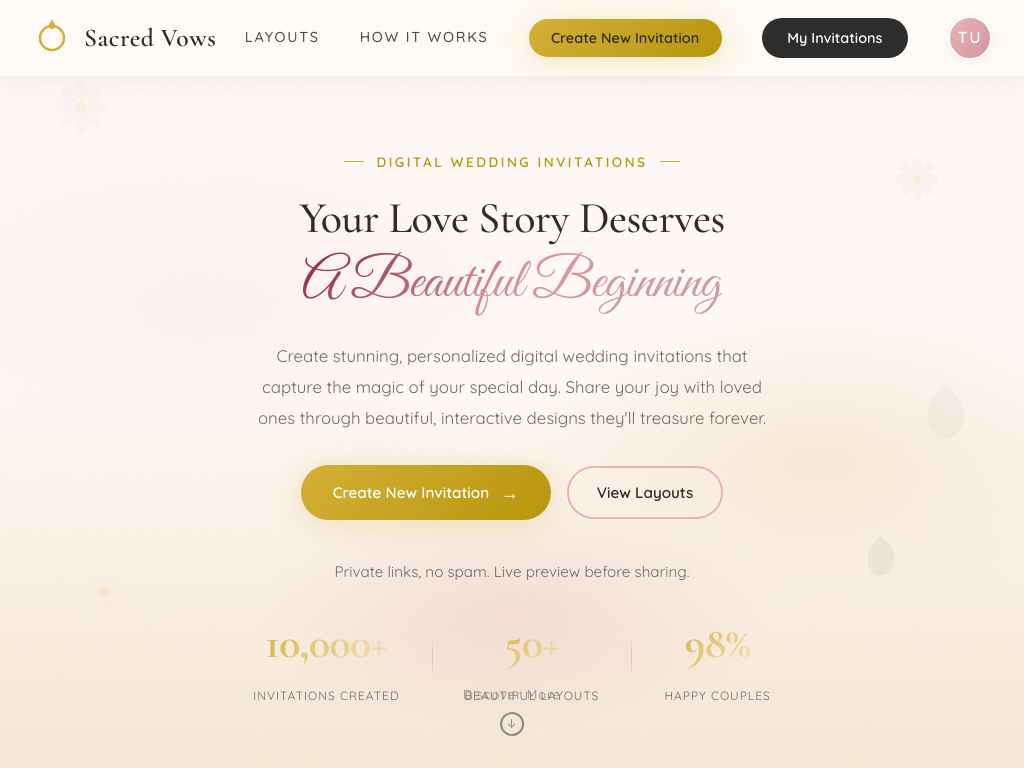
Scenario: HeroSection - Authenticated UI › User Interactions › should open dropdown when avatar is clicked
The image size is (1024, 768).
Click the text "TU".
click(970, 38)  # box 948,16 -> 992,60
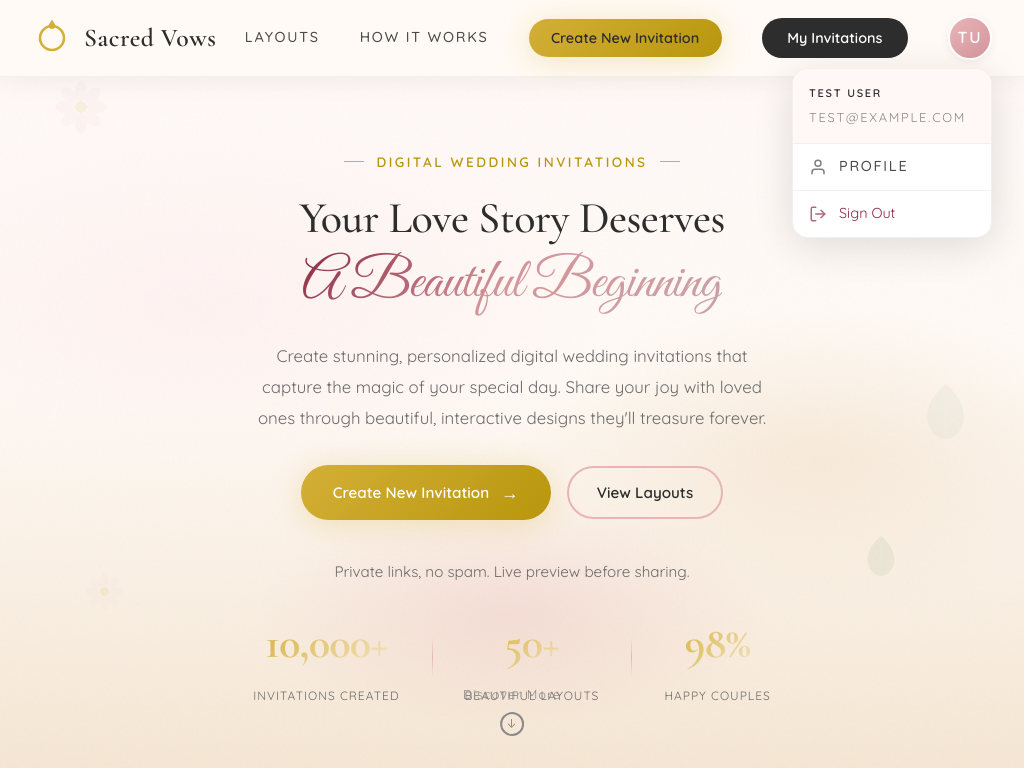
Expected: the text "Test User" is shown, 809,86 -> 882,100
Expected: the text "test@example.com" is shown, 809,107 -> 975,127
Expected: the link "Profile" is shown, 809,157 -> 908,176
